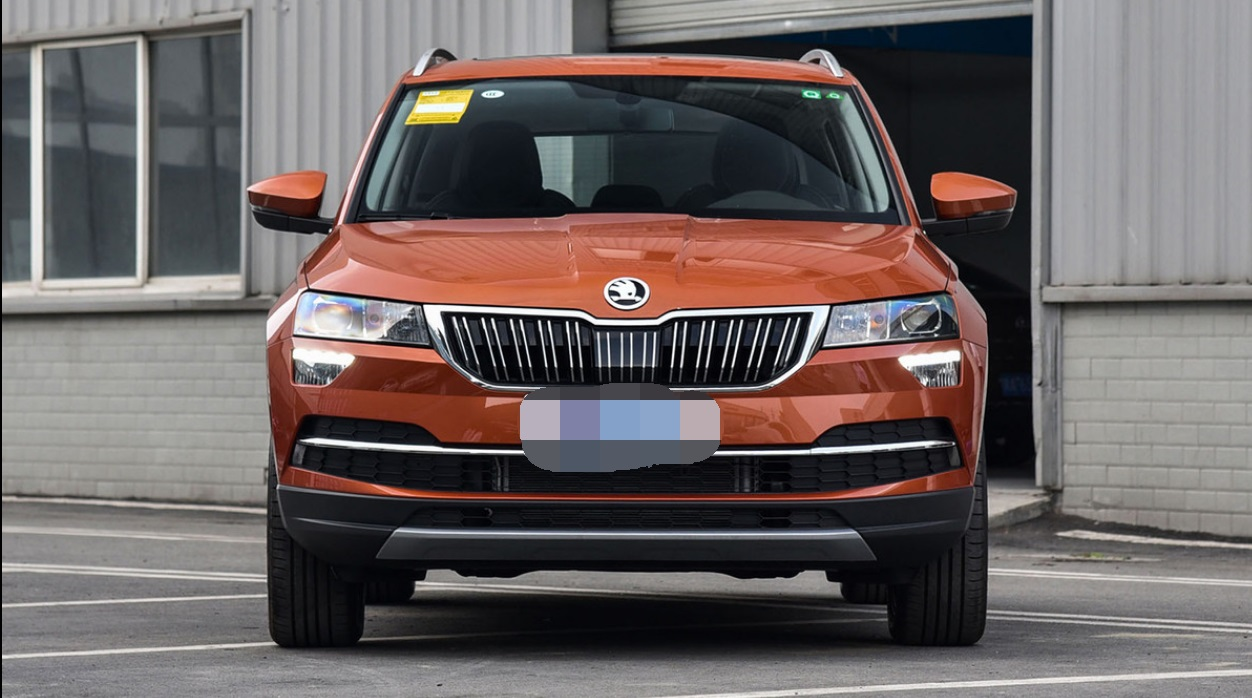SUV: (240, 44, 1019, 662)
